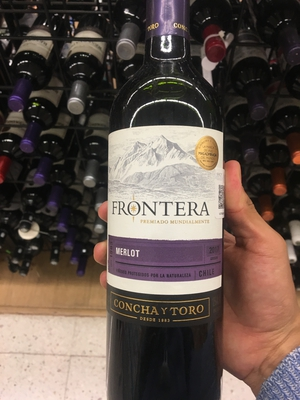frontera merlot: (96, 3, 235, 400)
